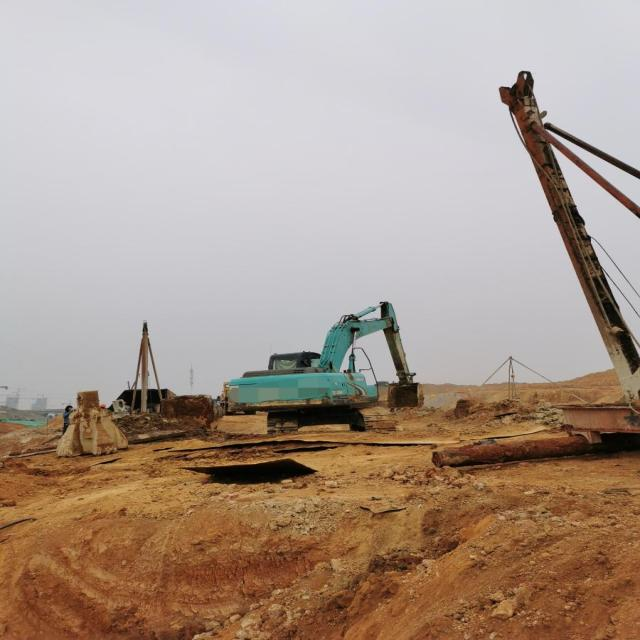excavator: (214, 295, 426, 444)
